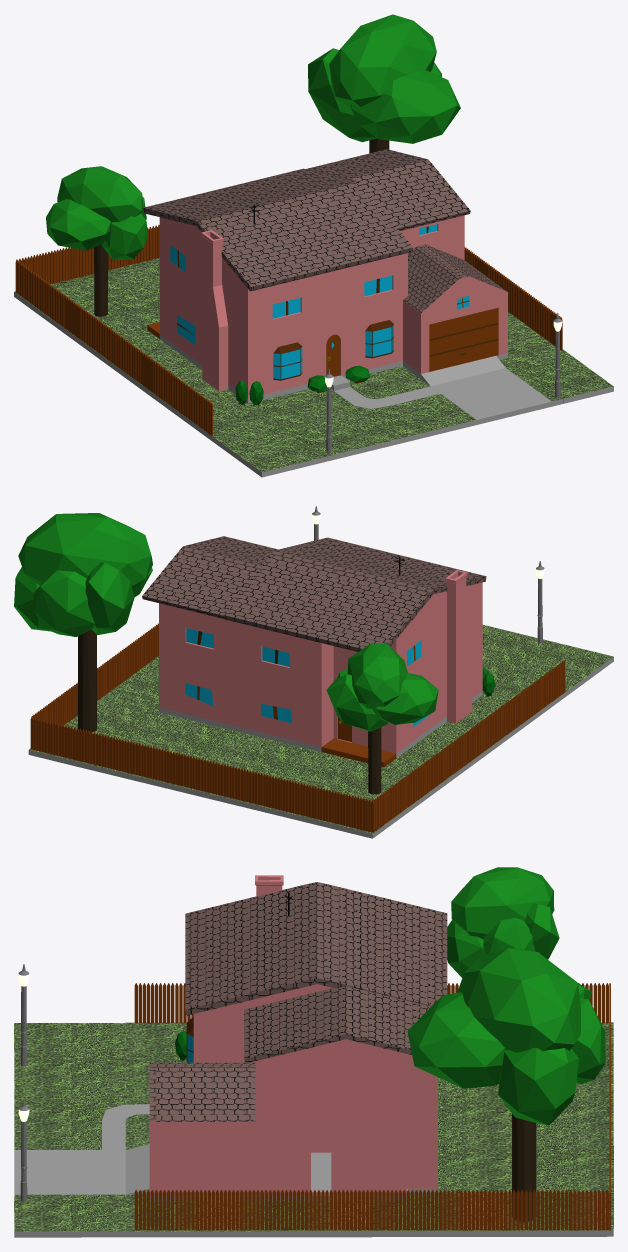
File: 742 Evergreen Terrace.glb
3 renders of one model, top to bottom at view 1: azimuth 30°, elevation 25°; view 2: azimuth 150°, elevation 25°; view 3: azimuth 270°, elevation 25°, orthographic. The views are drawn at different scales.
Parts seen in each view (by area): view 1: Ground, Ext Walls, Roof, Trees, Fence, Chimney, Garage Door, Windows.001, Shrub, Windows, Streetlight; view 2: Ground, Ext Walls, Roof, Trees, Fence, Chimney, Windows, Streetlight; view 3: Ground, Ext Walls, Roof, Trees, Fence, Streetlight, Chimney.
Part boxes in pixels (x1,y1,x2,y2): Ground: [14, 258, 613, 477]; Ext Walls: [159, 191, 507, 398]; Roof: [143, 149, 470, 291]; Trees: [46, 14, 460, 316]; Fence: [15, 225, 562, 435]; Chimney: [201, 230, 228, 391]; Garage Door: [429, 307, 498, 371]; Windows.001: [273, 320, 393, 380]; Shrub: [235, 365, 369, 405]; Windows: [272, 224, 437, 318]; Streetlight: [324, 313, 562, 453]; Ground: [28, 624, 613, 838]; Ext Walls: [159, 582, 482, 753]; Roof: [142, 536, 486, 651]; Trees: [14, 513, 438, 794]; Fence: [30, 623, 565, 832]; Chimney: [445, 570, 472, 723]; Windows: [186, 628, 289, 666]; Streetlight: [312, 506, 544, 643]; Ground: [14, 1022, 613, 1237]; Ext Walls: [149, 984, 437, 1195]; Roof: [185, 882, 447, 1063]; Trees: [407, 867, 605, 1221]; Fence: [134, 983, 610, 1230]; Streetlight: [18, 964, 29, 1201]; Chimney: [255, 875, 283, 896].
Size of what is drawn, in the model's own units: 25.82 by 13.25 by 27.02.
Materials: 15 (2 with a texture image).
